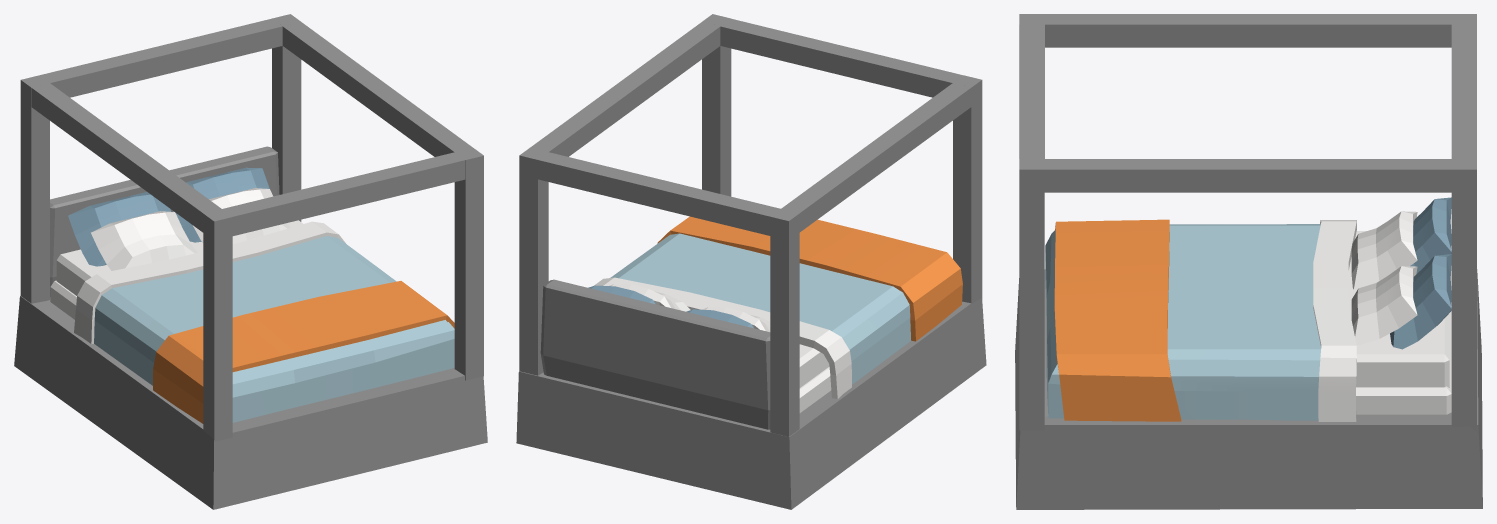
The model's file is Bed_2_231109.glb.
3 renders of one model, left to right at view 1: azimuth 30°, elevation 25°; view 2: azimuth 150°, elevation 25°; view 3: azimuth 270°, elevation 25°, orthographic. The views are drawn at different scales.
Parts seen in each view (by area): view 1: Bed_2; view 2: Bed_2; view 3: Bed_2.
Boxes of the visible parts, x1,y1,x2,y2 form: Bed_2: (14,14,487,509); Bed_2: (516,14,986,509); Bed_2: (1015,14,1482,509).
Bounding box in the file's own units: 2.55 × 2.53 × 3.16.
1 material, 1 textured.
